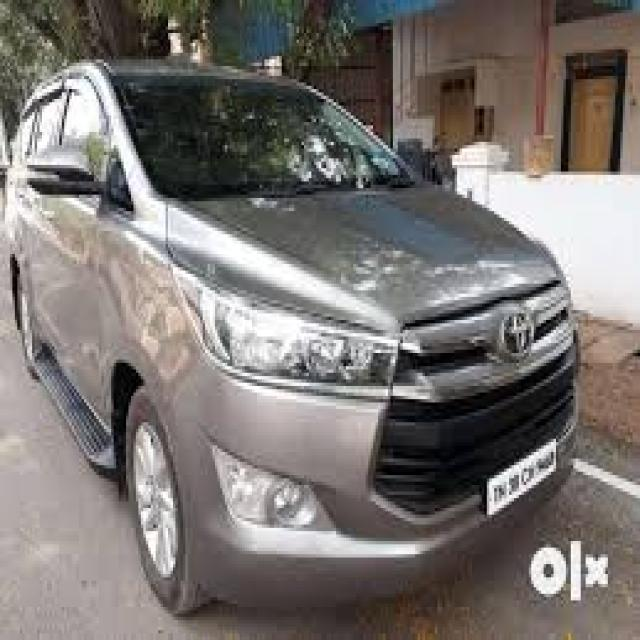light_vehicle: (5, 59, 578, 616)
